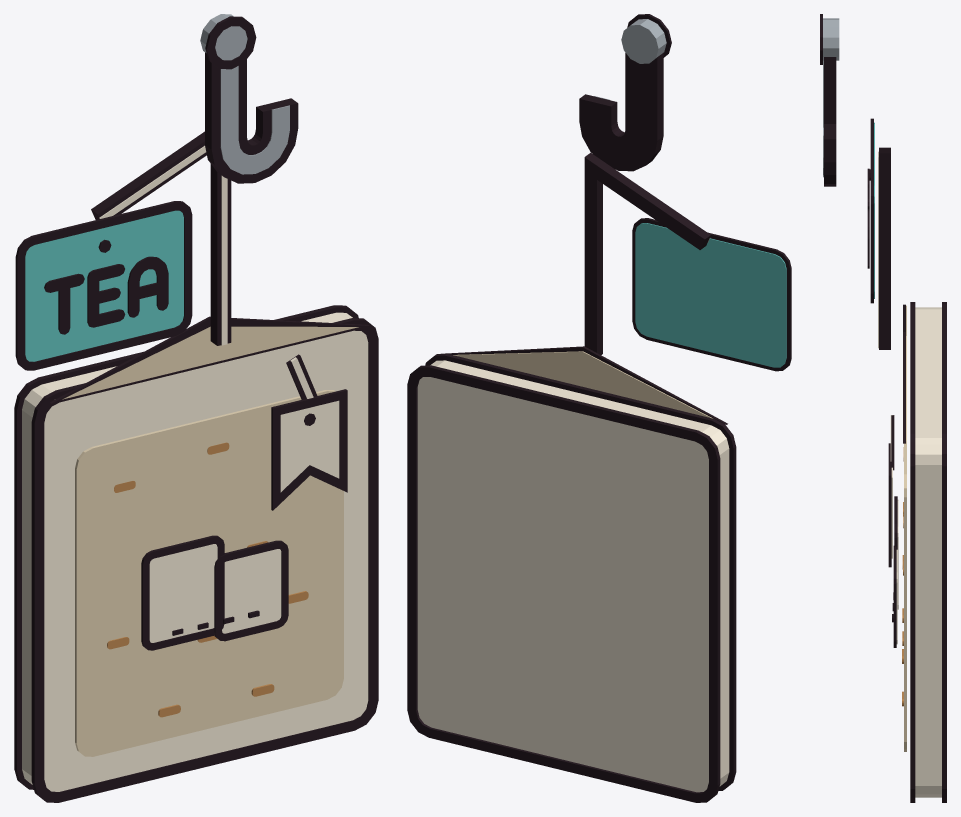
3 renders of one model, left to right at view 1: azimuth 30°, elevation 25°; view 2: azimuth 150°, elevation 25°; view 3: azimuth 270°, elevation 25°, orthographic. The views are drawn at different scales.
Parts seen in each view (by area): view 1: Bag Holders proposal; view 2: Bag Holders proposal; view 3: Bag Holders proposal.
Part boxes in pixels (x1,y1,x2,y2): Bag Holders proposal: (14, 14, 378, 802); Bag Holders proposal: (407, 14, 791, 802); Bag Holders proposal: (820, 14, 946, 802).
Size of the model in its own units: 0.5132 by 1.01 by 0.1645.
